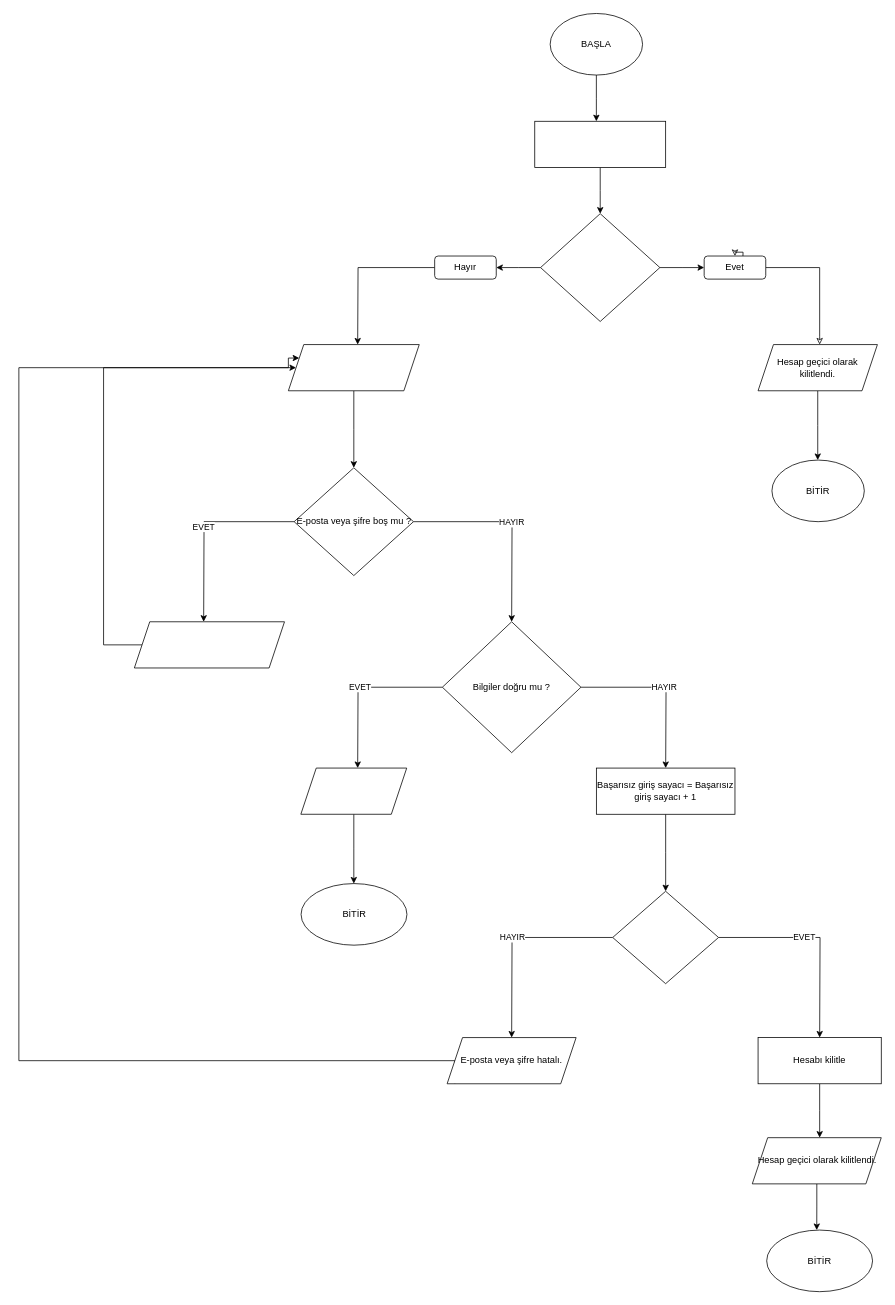
This 895x1305 diagram has some shape labels left out. Each missing label, with the centre of its shape:
"Başarısız giriş sayacı 3 e ulaşttımı ?" goes at point (665, 937).
"Başarısız giriş sayacı = 0" goes at point (600, 144).
"Boş alanların dolması gerekiyor." goes at point (209, 644).
"E-posta ve şifre al" goes at point (353, 367).
"Giriş başarılı." goes at point (353, 790).
"Hesap kitli mi?" goes at point (600, 267).
